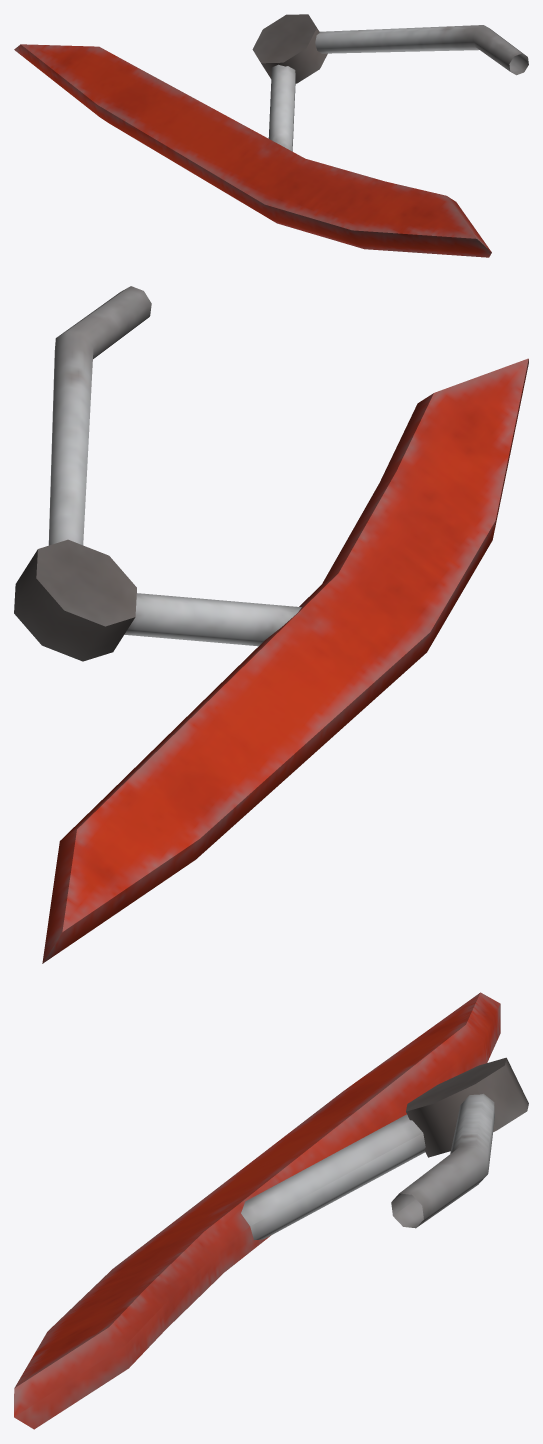
Rendered from cohete_propulsor_2.obj.
3 renders of one model, top to bottom at view 1: azimuth 30°, elevation 25°; view 2: azimuth 150°, elevation 25°; view 3: azimuth 330°, elevation 25°, orthographic. The views are drawn at different scales.
Parts seen in each view (by area): view 1: cohete_booster2; view 2: cohete_booster2; view 3: cohete_booster2.
Part boxes in pixels (box(x1,y1,x2,y2)): cohete_booster2: box(14, 14, 528, 257); cohete_booster2: box(14, 286, 528, 963); cohete_booster2: box(14, 992, 528, 1429).
Bounding box in the file's own units: 0.8613 × 0.5383 × 2.39.
Materials: 1 (1 with a texture image).
